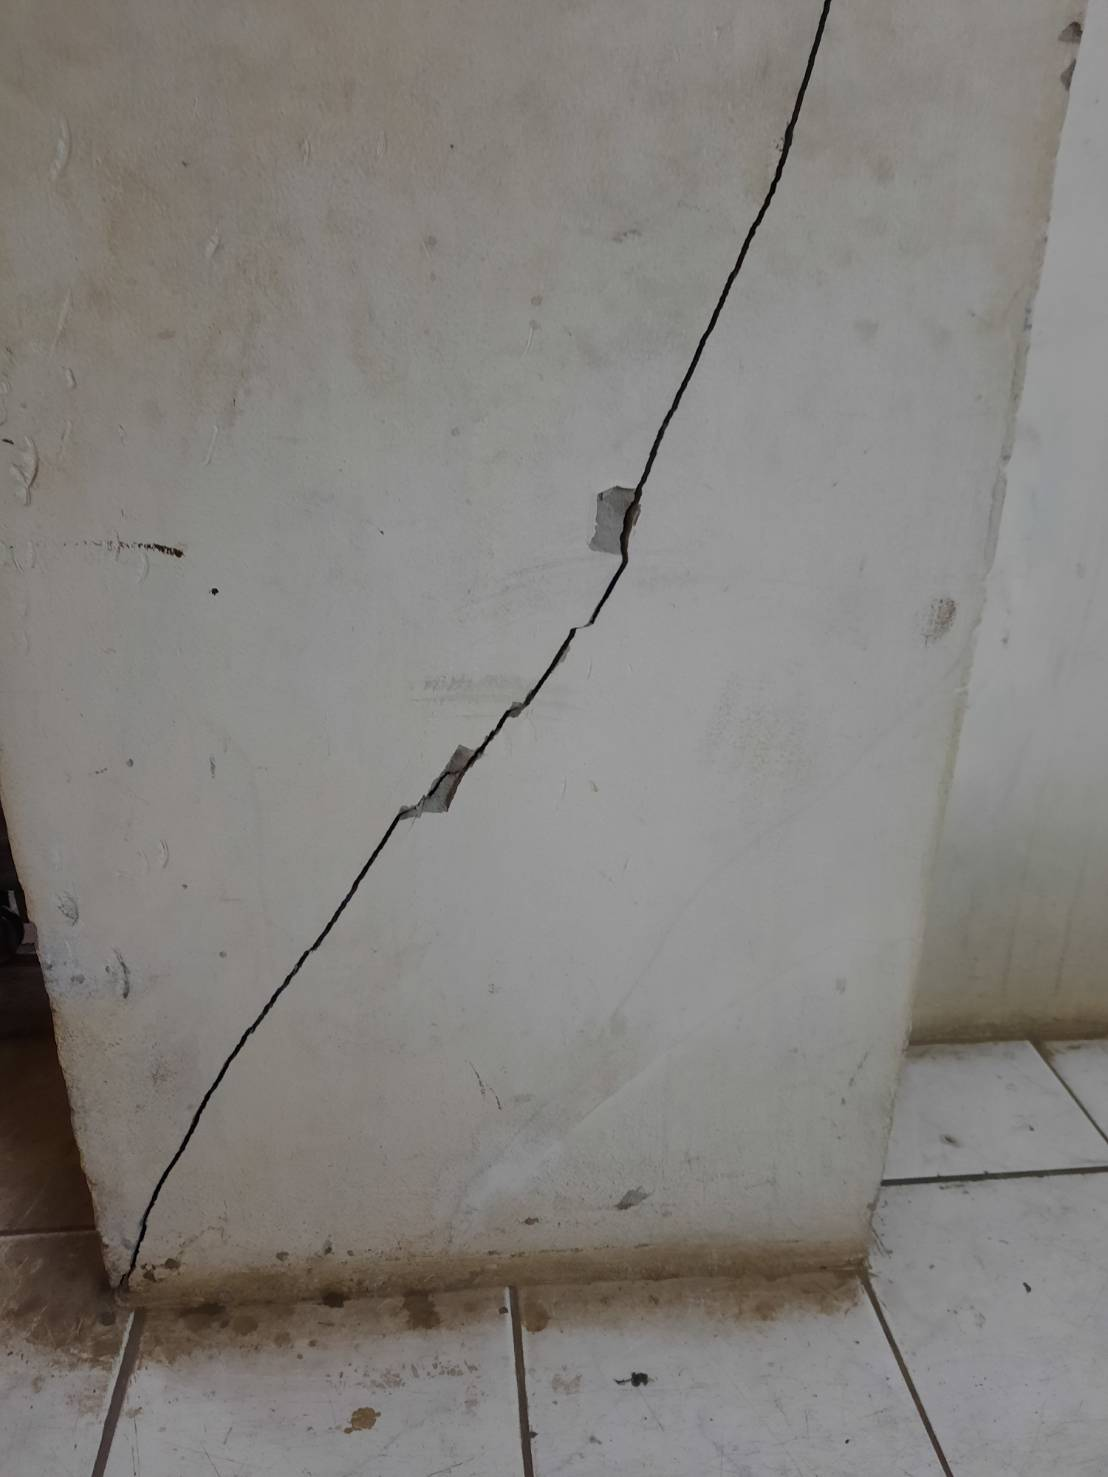Medium: (114, 478, 687, 1278)
